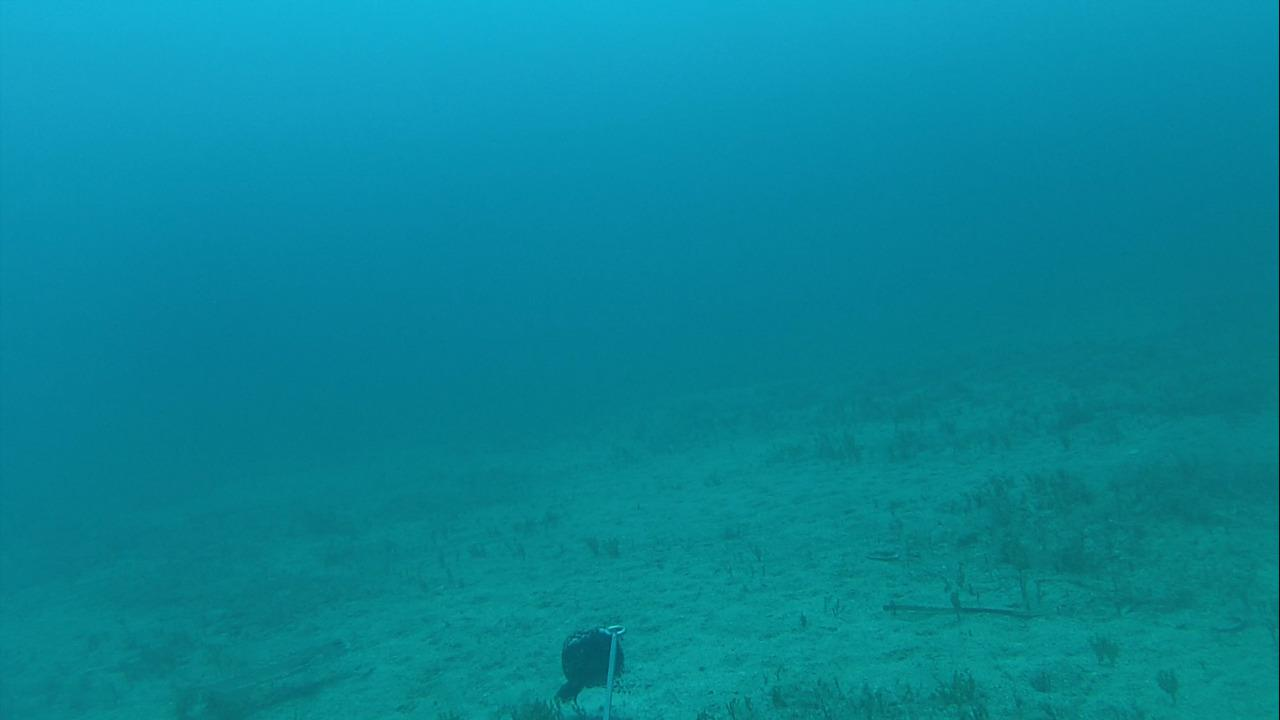dactylopterus: (148, 629, 353, 712)
